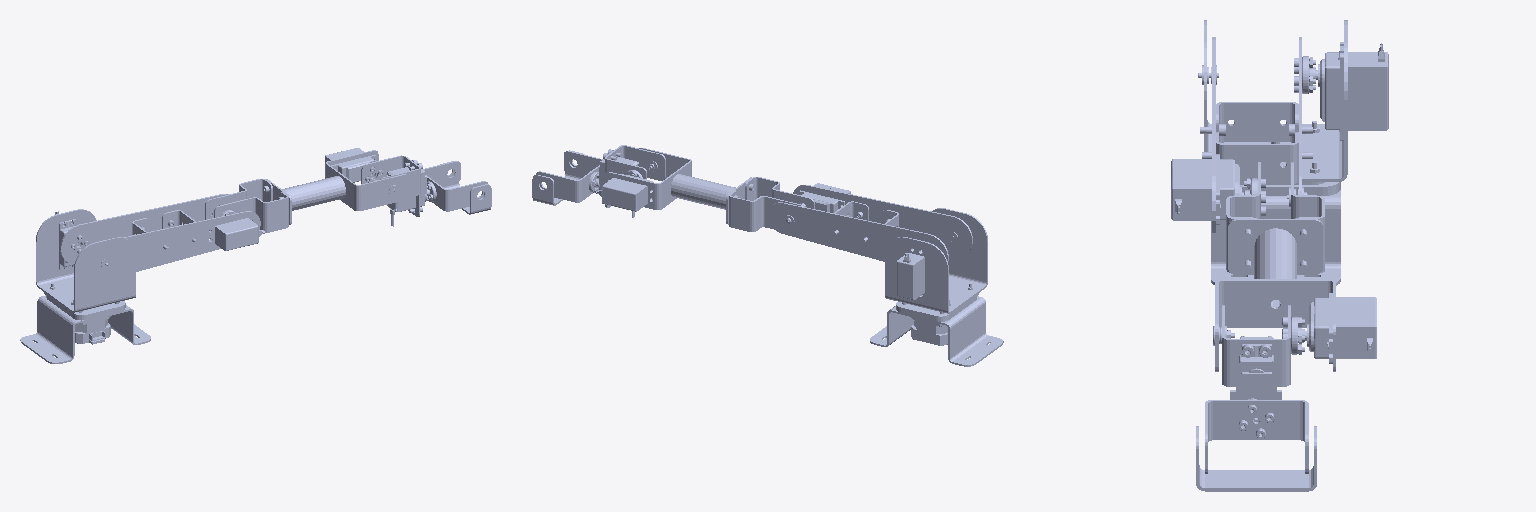
robot.urdf — yeni_urdf:
<?xml version="1.0" encoding="utf-8"?>
<!-- This URDF was automatically created by SolidWorks to URDF Exporter! Originally created by [author] ([email redacted]) 
     Commit Version: 1.5.1-0-g916b5db  Build Version: 1.5.7152.31018
     For more information, please see http://wiki.ros.org/sw_urdf_exporter -->
<robot
  name="yeni_urdf">
  <link
    name="temel">
    <inertial>
      <origin
        xyz="4.7768E-07 -0.00012737 0.028045"
        rpy="0 0 0" />
      <mass
        value="0.10317" />
      <inertia
        ixx="4.7369E-05"
        ixy="-1.15E-11"
        ixz="-1.5615E-09"
        iyy="6.7991E-05"
        iyz="-1.814E-07"
        izz="8.4712E-05" />
    </inertial>
    <visual>
      <origin
        xyz="0 0 0"
        rpy="0 0 0" />
      <geometry>
        <mesh
          filename="package://yeni_urdf/meshes/temel.STL" />
      </geometry>
      <material
        name="">
        <color
          rgba="0.79216 0.81961 0.93333 1" />
      </material>
    </visual>
    <collision>
      <origin
        xyz="0 0 0"
        rpy="0 0 0" />
      <geometry>
        <mesh
          filename="package://yeni_urdf/meshes/temel.STL" />
      </geometry>
    </collision>
  </link>
  <link
    name="omuz">
    <inertial>
      <origin
        xyz="9.906E-10 0.017444 0.014038"
        rpy="0 0 0" />
      <mass
        value="0.083739" />
      <inertia
        ixx="7.057E-05"
        ixy="-8.0383E-12"
        ixz="9.4373E-13"
        iyy="4.5656E-05"
        iyz="1.0816E-06"
        izz="6.8964E-05" />
    </inertial>
    <visual>
      <origin
        xyz="0 0 0"
        rpy="0 0 0" />
      <geometry>
        <mesh
          filename="package://yeni_urdf/meshes/omuz.STL" />
      </geometry>
      <material
        name="">
        <color
          rgba="0.79216 0.81961 0.93333 1" />
      </material>
    </visual>
    <collision>
      <origin
        xyz="0 0 0"
        rpy="0 0 0" />
      <geometry>
        <mesh
          filename="package://yeni_urdf/meshes/omuz.STL" />
      </geometry>
    </collision>
  </link>
  <joint
    name="joint_1"
    type="revolute">
    <origin
      xyz="0 0 0.0675"
      rpy="0 0 0" />
    <parent
      link="temel" />
    <child
      link="omuz" />
    <axis
      xyz="0 0 1" />
    <limit
      lower="0"
      upper="0"
      effort="0"
      velocity="0" />
  </joint>
  <link
    name="arka_kol">
    <inertial>
      <origin
        xyz="0.11604 -0.00063051 0.012635"
        rpy="0 0 0" />
      <mass
        value="0.075745" />
      <inertia
        ixx="1.2876E-05"
        ixy="5.4193E-07"
        ixz="5.9513E-08"
        iyy="0.00011439"
        iyz="-3.2834E-10"
        izz="0.00011331" />
    </inertial>
    <visual>
      <origin
        xyz="0 0 0"
        rpy="0 0 0" />
      <geometry>
        <mesh
          filename="package://yeni_urdf/meshes/arka_kol.STL" />
      </geometry>
      <material
        name="">
        <color
          rgba="0.79216 0.81961 0.93333 1" />
      </material>
    </visual>
    <collision>
      <origin
        xyz="0 0 0"
        rpy="0 0 0" />
      <geometry>
        <mesh
          filename="package://yeni_urdf/meshes/arka_kol.STL" />
      </geometry>
    </collision>
  </link>
  <joint
    name="joint_2"
    type="revolute">
    <origin
      xyz="0 -0.01065 0.03901"
      rpy="1.5708 -0.0054821 0" />
    <parent
      link="omuz" />
    <child
      link="arka_kol" />
    <axis
      xyz="0 0 -1" />
    <limit
      lower="0"
      upper="0"
      effort="0"
      velocity="0" />
  </joint>
  <link
    name="dirsek">
    <inertial>
      <origin
        xyz="0.13058 -1.2666E-06 -0.016375"
        rpy="0 0 0" />
      <mass
        value="0.076205" />
      <inertia
        ixx="1.9171E-05"
        ixy="-6.6004E-11"
        ixz="-8.2753E-07"
        iyy="3.7895E-05"
        iyz="-7.7102E-10"
        izz="2.8034E-05" />
    </inertial>
    <visual>
      <origin
        xyz="0 0 0"
        rpy="0 0 0" />
      <geometry>
        <mesh
          filename="package://yeni_urdf/meshes/dirsek.STL" />
      </geometry>
      <material
        name="">
        <color
          rgba="0.79216 0.81961 0.93333 1" />
      </material>
    </visual>
    <collision>
      <origin
        xyz="0 0 0"
        rpy="0 0 0" />
      <geometry>
        <mesh
          filename="package://yeni_urdf/meshes/dirsek.STL" />
      </geometry>
    </collision>
  </link>
  <joint
    name="joint_3"
    type="revolute">
    <origin
      xyz="0.16659 -0.00091326 -0.01065"
      rpy="0 0 -0.0054821" />
    <parent
      link="arka_kol" />
    <child
      link="dirsek" />
    <axis
      xyz="0 0 1" />
    <limit
      lower="0"
      upper="0"
      effort="0"
      velocity="0" />
  </joint>
  <link
    name="on_kol">
    <inertial>
      <origin
        xyz="0.030359 -0.012362 0.00021558"
        rpy="0 0 0" />
      <mass
        value="0.02717" />
      <inertia
        ixx="6.9095E-06"
        ixy="4.9967E-07"
        ixz="3.6529E-08"
        iyy="5.2817E-06"
        iyz="-6.5603E-09"
        izz="6.3585E-06" />
    </inertial>
    <visual>
      <origin
        xyz="0 0 0"
        rpy="0 0 0" />
      <geometry>
        <mesh
          filename="package://yeni_urdf/meshes/on_kol.STL" />
      </geometry>
      <material
        name="">
        <color
          rgba="0.79216 0.81961 0.93333 1" />
      </material>
    </visual>
    <collision>
      <origin
        xyz="0 0 0"
        rpy="0 0 0" />
      <geometry>
        <mesh
          filename="package://yeni_urdf/meshes/on_kol.STL" />
      </geometry>
    </collision>
  </link>
  <joint
    name="joint_4"
    type="revolute">
    <origin
      xyz="0.18901 0 0.01115"
      rpy="-7.7422E-05 0 0" />
    <parent
      link="dirsek" />
    <child
      link="on_kol" />
    <axis
      xyz="0 0 -1" />
    <limit
      lower="0"
      upper="0"
      effort="0"
      velocity="0" />
  </joint>
  <link
    name="el_ve_bilek">
    <inertial>
      <origin
        xyz="-3.1919E-16 0.0060639 -0.025103"
        rpy="0 0 0" />
      <mass
        value="0.013416" />
      <inertia
        ixx="3.3027E-06"
        ixy="-2.9241E-20"
        ixz="-1.4781E-19"
        iyy="1.1286E-05"
        iyz="1.2875E-09"
        izz="9.8785E-06" />
    </inertial>
    <visual>
      <origin
        xyz="0 0 0"
        rpy="0 0 0" />
      <geometry>
        <mesh
          filename="package://yeni_urdf/meshes/el_ve_bilek.STL" />
      </geometry>
      <material
        name="">
        <color
          rgba="0.79216 0.81961 0.93333 1" />
      </material>
    </visual>
    <collision>
      <origin
        xyz="0 0 0"
        rpy="0 0 0" />
      <geometry>
        <mesh
          filename="package://yeni_urdf/meshes/el_ve_bilek.STL" />
      </geometry>
    </collision>
  </link>
  <joint
    name="joint_5"
    type="revolute">
    <origin
      xyz="0.0625 -0.025 -0.0001"
      rpy="3.1416 1.5708 0" />
    <parent
      link="on_kol" />
    <child
      link="el_ve_bilek" />
    <axis
      xyz="0 0 1" />
    <limit
      lower="0"
      upper="0"
      effort="0"
      velocity="0" />
  </joint>
</robot>

--- Render facts (derived) ---
Views: 3 orthographic renders of the robot side by side, from view 1: azimuth 30°, elevation 25°; view 2: azimuth 150°, elevation 25°; view 3: azimuth 270°, elevation 25°.
Robot: yeni_urdf — 6 links, 5 joints (5 revolute); root link temel; default pose: all joints at 0.
Visible links, largest first — view 1: arka_kol, dirsek, omuz, temel, el_ve_bilek, on_kol; view 2: arka_kol, dirsek, omuz, temel, el_ve_bilek, on_kol; view 3: dirsek, arka_kol, omuz, el_ve_bilek, on_kol, temel.
Link boxes in pixels (left/top/right/bottom): arka_kol: left=60, top=194, right=264, bottom=271; dirsek: left=205, top=148, right=410, bottom=232; omuz: left=36, top=209, right=135, bottom=312; temel: left=20, top=295, right=150, bottom=363; el_ve_bilek: left=423, top=161, right=491, bottom=214; on_kol: left=361, top=155, right=436, bottom=226; arka_kol: left=768, top=183, right=972, bottom=261; dirsek: left=596, top=148, right=814, bottom=231; omuz: left=885, top=208, right=987, bottom=313; temel: left=870, top=296, right=1003, bottom=366; el_ve_bilek: left=532, top=150, right=602, bottom=205; on_kol: left=589, top=145, right=665, bottom=217; dirsek: left=1213, top=162, right=1376, bottom=371; arka_kol: left=1171, top=37, right=1312, bottom=233; omuz: left=1198, top=20, right=1388, bottom=184; el_ve_bilek: left=1196, top=400, right=1316, bottom=491; on_kol: left=1220, top=305, right=1290, bottom=438; temel: left=1211, top=142, right=1340, bottom=285.
Size in the robot's own frame: 0.5314 by 0.1254 by 0.133 metres.
Meshes: 6 distinct files referenced, 6 mesh visuals loaded (6 binary STL).